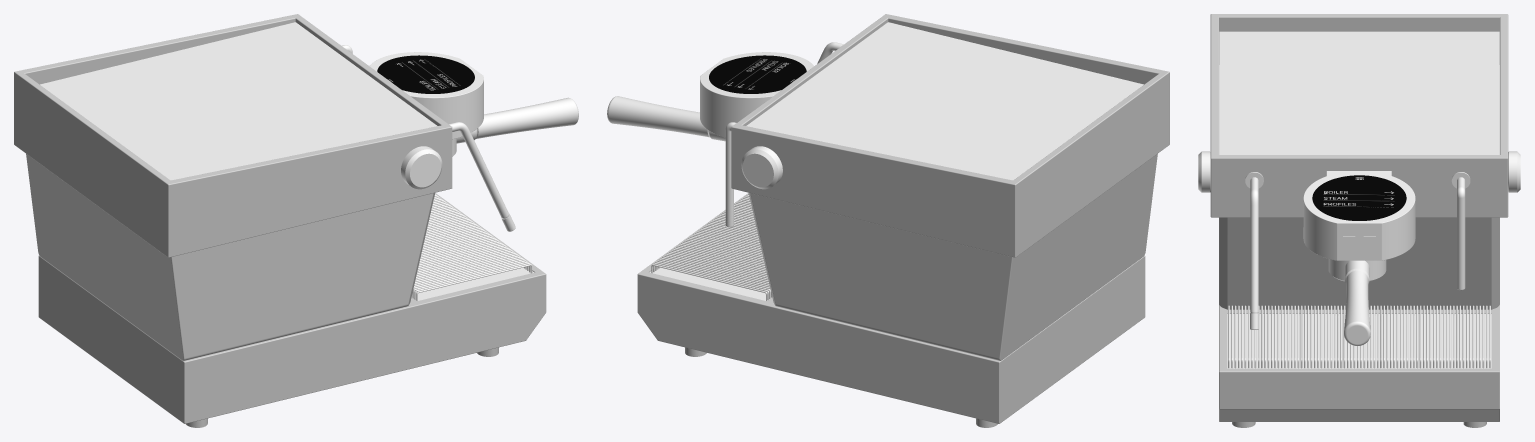
Rendered from kaffimaschine.glb.
3 renders of one model, left to right at view 1: azimuth 30°, elevation 25°; view 2: azimuth 150°, elevation 25°; view 3: azimuth 270°, elevation 25°, orthographic. The views are drawn at different scales.
Visible parts, largest first — view 1: Done_Body Mitte, Done_Body Oben, Done_Tassenboden, Done_Body Unten, Done_Folder 01, Done_Display, Done_Brühkopf, Done_Porta Handle Wood, Done_Dampflanze Schalter, Done_Dampflante, Done_Abtroffgitter; view 2: Done_Body Mitte, Done_Body Oben, Done_Tassenboden, Done_Body Unten, Done_Folder 01, Done_Display, Done_Brühkopf, Done_Porta Handle Wood, Done_Dampflanze Schalter (1), Done_Abtroffgitter, Done_Wasser Lanze; view 3: Done_Tassenboden, Done_Body Oben, Done_Body Mitte, Done_Body Unten, Done_Folder 01, Done_Abtroffgitter, Done_Brühkopf, Done_Display, Done_Porta Handle Wood, Done_Dampflante, Done_Wasser Lanze, Done_Porta filter (+3 smaller).
Part boxes in pixels (x1,y1,x2,y2): Done_Body Mitte: (26,154,434,360); Done_Body Oben: (14,14,452,257); Done_Tassenboden: (40,22,437,180); Done_Body Unten: (38,193,546,427); Done_Folder 01: (411,194,532,300); Done_Display: (377,55,474,93); Done_Brühkopf: (369,52,483,139); Done_Porta Handle Wood: (476,97,578,138); Done_Dampflanze Schalter: (401,146,442,189); Done_Dampflante: (449,122,515,231); Done_Abtroffgitter: (413,267,534,300); Done_Body Mitte: (748,153,1157,360); Done_Body Oben: (731,14,1169,257); Done_Tassenboden: (746,22,1143,180); Done_Body Unten: (637,193,1145,427); Done_Folder 01: (651,194,771,300); Done_Display: (709,55,806,93); Done_Brühkopf: (700,52,813,137); Done_Porta Handle Wood: (607,96,710,137); Done_Dampflanze Schalter (1): (741,146,782,189); Done_Abtroffgitter: (649,267,771,300); Done_Wasser Lanze: (725,122,736,227); Done_Tassenboden: (1219,31,1499,154); Done_Body Oben: (1210,14,1508,217); Done_Body Mitte: (1219,217,1499,309); Done_Body Unten: (1219,304,1499,427); Done_Folder 01: (1228,305,1490,368); Done_Abtroffgitter: (1227,313,1491,368); Done_Brühkopf: (1303,171,1415,260); Done_Display: (1312,175,1406,220); Done_Porta Handle Wood: (1344,270,1370,345); Done_Dampflante: (1250,177,1258,329); Done_Wasser Lanze: (1457,177,1465,290); Done_Porta filter: (1328,259,1386,281).
Size of the model in its own units: 0.6466 by 0.3363 by 0.39.
Materials: 7 (3 with a texture image).
